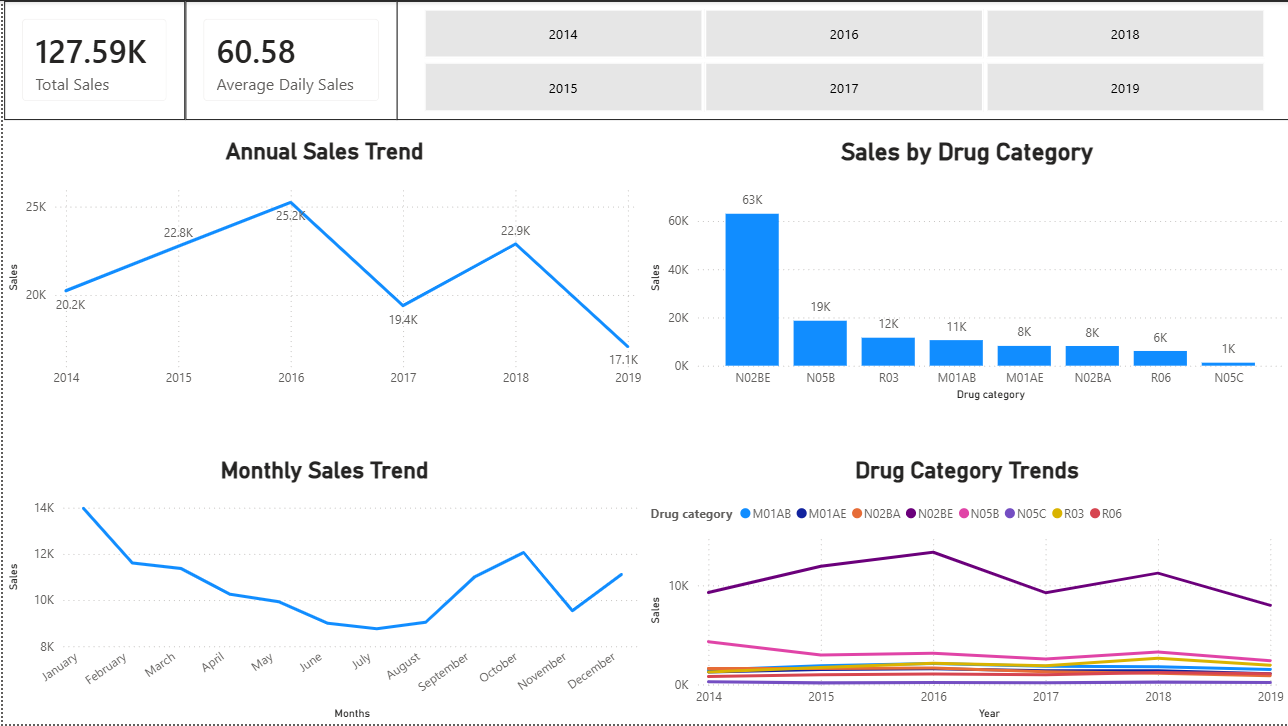

The page's visual inventory and layout, read from the dashboard file:
{"tool":"powerbi","page":{"name":"Page 1","canvas":[1280,720],"ordinal":0},"visuals":[{"type":"lineChart","title":"Annual Sales Trend","fields":{"Category":["salesdaily.Year"],"Y":["salesdaily.Total Sales"]},"box":[0,135.7,640,267.1],"z":0},{"type":"clusteredColumnChart","title":"Sales by Drug Category","fields":{"Category":["salesdaily.Attribute"],"Y":["salesdaily.Total Sales"]},"box":[640,135.7,640,267.1],"z":1000},{"type":"lineChart","title":"Monthly Sales Trend","fields":{"Y":["salesdaily.Total Sales"],"Category":["salesdaily.Month Name"]},"box":[0,452.9,640,267.1],"z":2000},{"type":"lineChart","title":"Drug Category Trends","fields":{"Category":["salesdaily.Year"],"Y":["salesdaily.Total Sales"],"Series":["salesdaily.Attribute"]},"box":[640,452.9,640,267.1],"z":3000},{"type":"cardVisual","title":"Total Pharmaceutical Sales","fields":{"Data":["salesdaily.Total Sales"]},"box":[1.4,0,180,118.6],"z":4000},{"type":"cardVisual","fields":{"Data":["salesdaily.Average Sales daily"]},"box":[181.4,0,211.4,118.6],"z":5000},{"type":"slicer","fields":{"Values":["salesdaily.Year"]},"box":[391.4,0,888.6,118.6],"z":6000}]}

Visuals, with their boxes in screenshot pixels (x1, y1, x2, y2), scaled from the page's 1280x720 canvas onto the 1288x726 screenshot:
"Annual Sales Trend" lineChart: pyautogui.locateOnScreen(0, 137, 644, 406)
"Sales by Drug Category" clusteredColumnChart: pyautogui.locateOnScreen(644, 137, 1287, 406)
"Monthly Sales Trend" lineChart: pyautogui.locateOnScreen(0, 457, 644, 725)
"Drug Category Trends" lineChart: pyautogui.locateOnScreen(644, 457, 1287, 725)
"Total Pharmaceutical Sales" cardVisual: pyautogui.locateOnScreen(1, 0, 183, 120)
cardVisual - salesdaily.Average Sales daily: pyautogui.locateOnScreen(183, 0, 395, 120)
slicer - salesdaily.Year: pyautogui.locateOnScreen(394, 0, 1287, 120)
